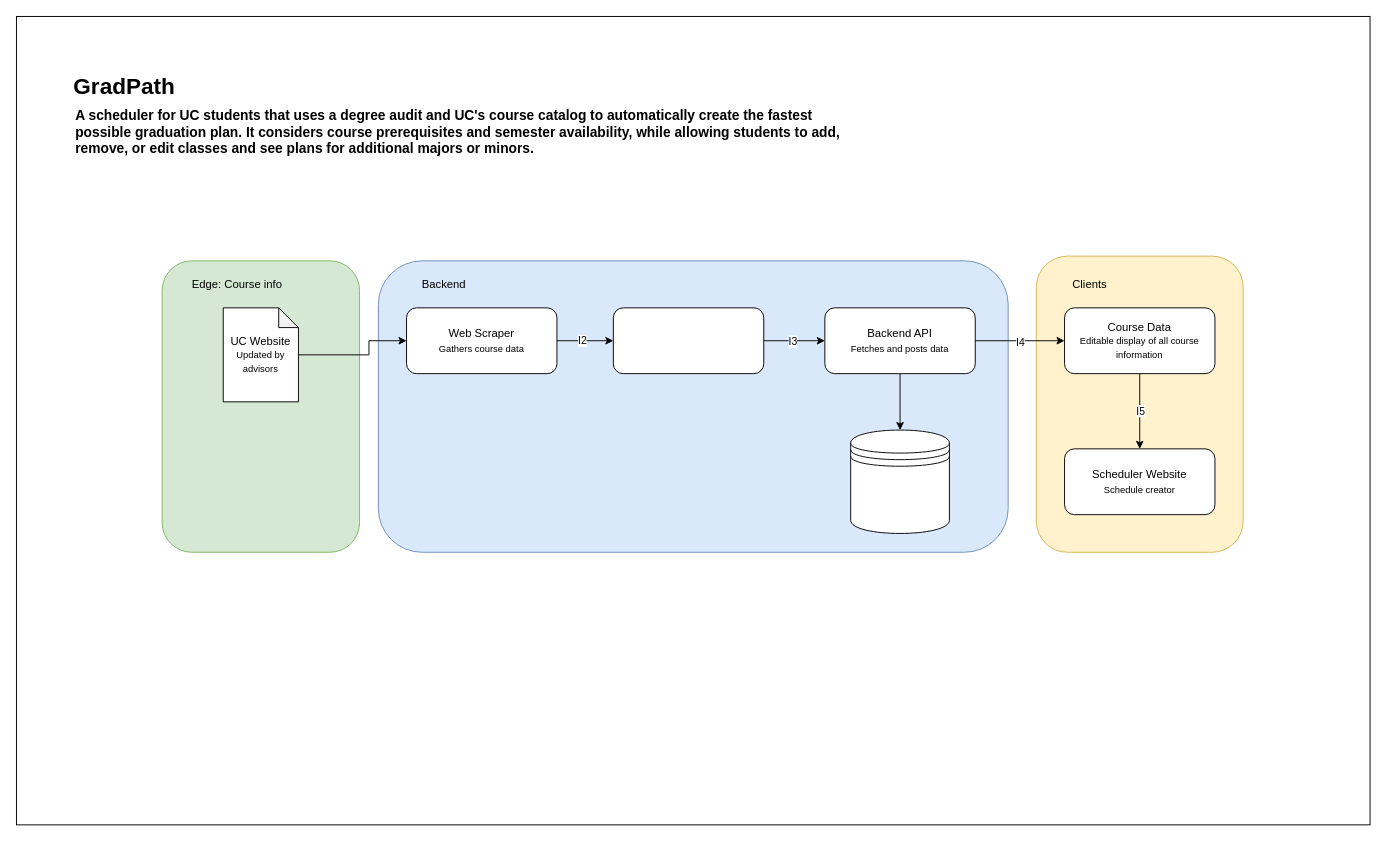
Some shapes in this 1387 by 841 pixel diagram are drawn without their labels. The shapes that lost their labels are listed below. From the top down, each one's box as (x1, y1, x2, y2) in pixels, then its label:
(612, 307, 764, 374): Data Validator Removes duplicates, structures data in consistent way
(850, 429, 949, 533): Azure DB Stores data
